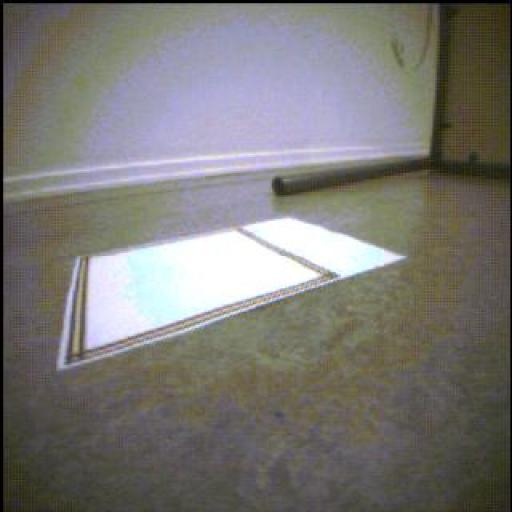Pad: (59, 219, 406, 371)
